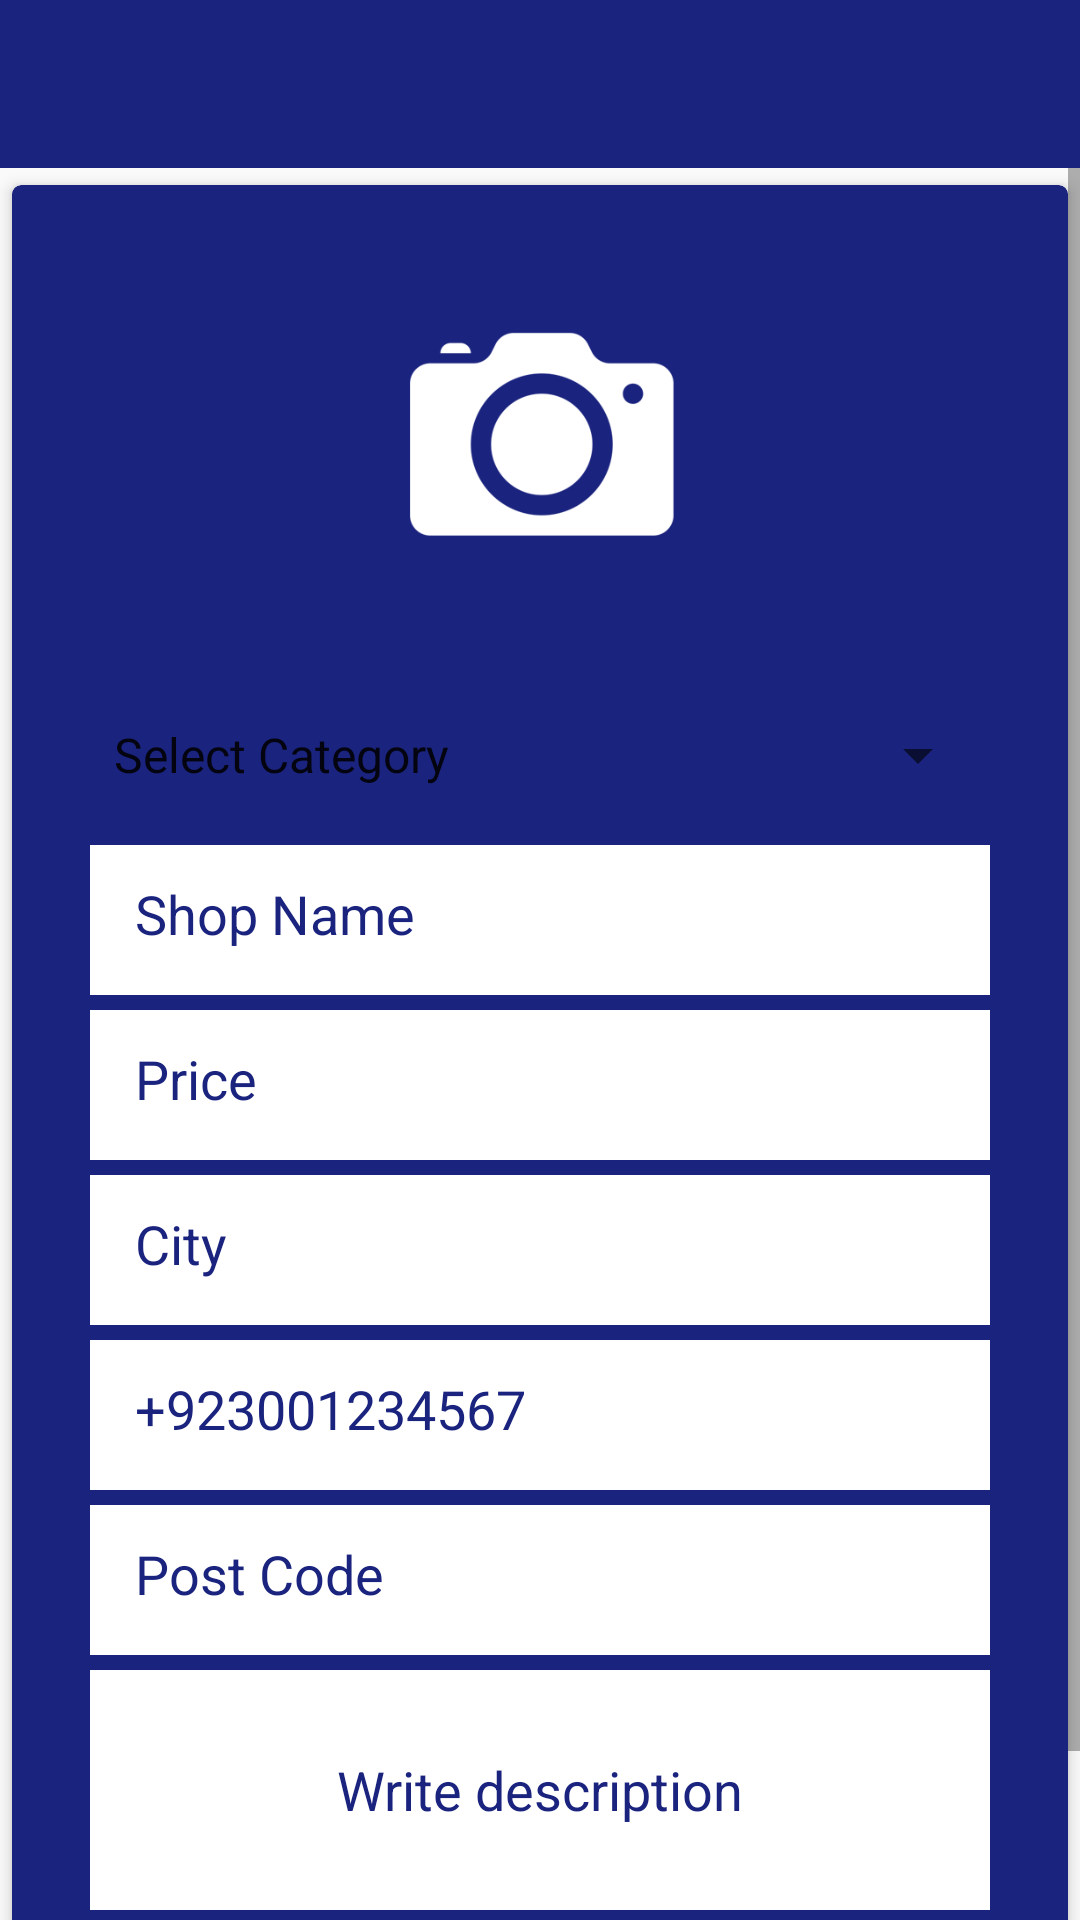

Named icons in this screenshot (1080w x 1920h) and their centers, point (x, y):
camera: point (542, 434)
